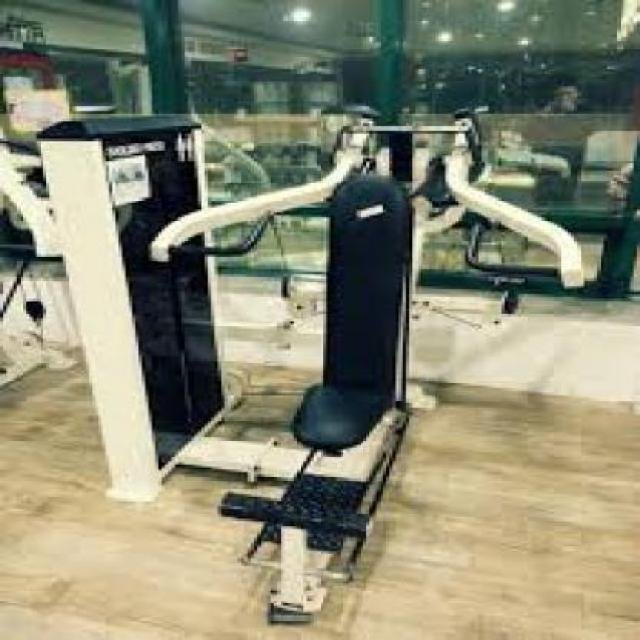shoulder press machine: (37, 106, 601, 622)
